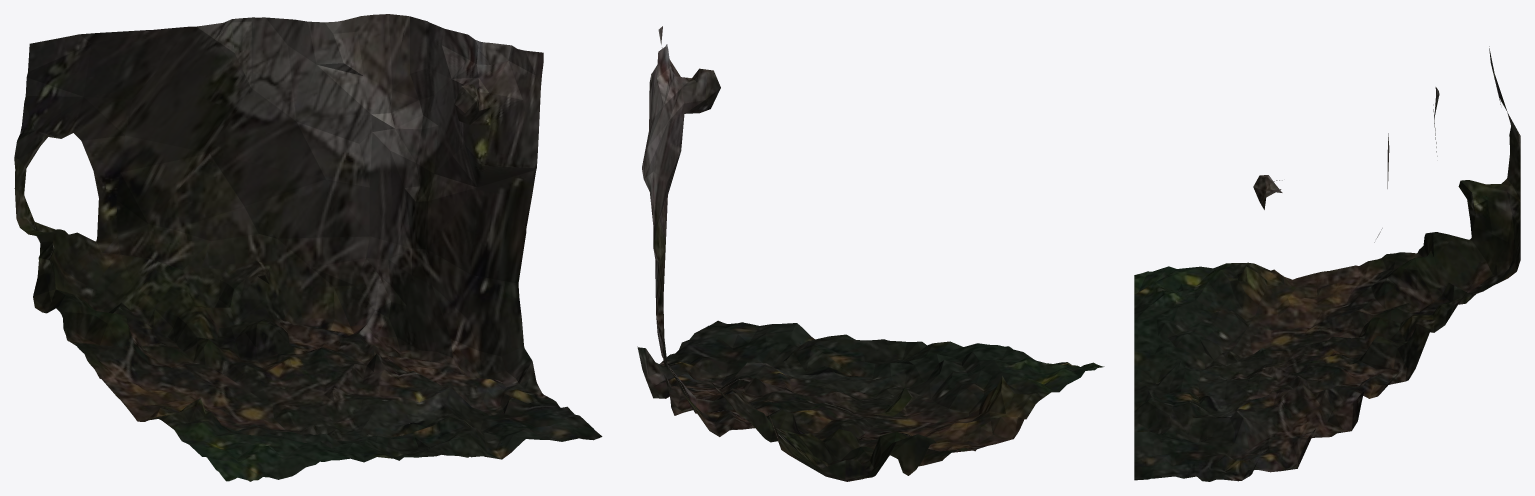
The picture shows the model from 3 angles, left to right: view 1: azimuth 30°, elevation 25°; view 2: azimuth 150°, elevation 25°; view 3: azimuth 270°, elevation 25°; orthographic projection. The views are drawn at different scales.
Bounding box in the file's own units: 1.67 × 1.46 × 1.67.
Materials: 4 (4 with a texture image).
